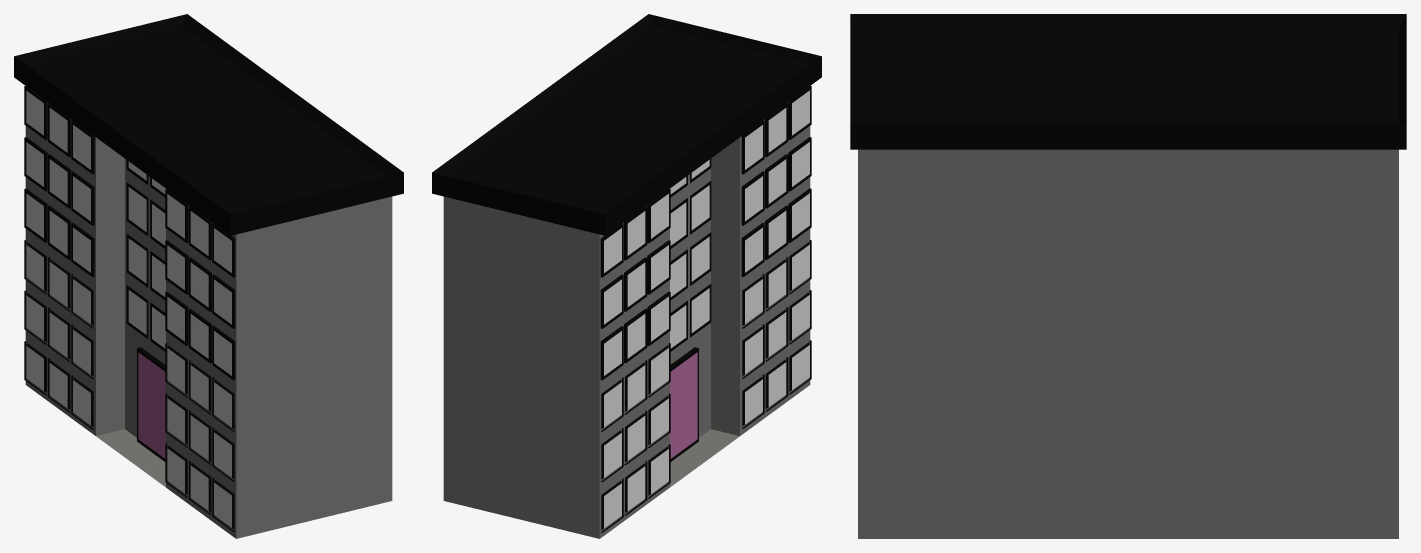
Rendered from EdificioApartamento.fbx.
3 views of the same model, side by side, from view 1: azimuth 30°, elevation 25°; view 2: azimuth 150°, elevation 25°; view 3: azimuth 270°, elevation 25° (orthographic). The views are drawn at different scales.
Parts seen in each view (by area): view 1: Cube, Cube.003, Cube.002, Cube.004, Cube.005, Cube.001, Cube.006; view 2: Cube, Cube.002, Cube.003, Cube.005, Cube.004, Cube.001, Cube.006; view 3: Cube.
Boxes of the visible parts, x1,y1,x2,y2 form: Cube: [14, 14, 403, 538]; Cube.003: [24, 86, 94, 307]; Cube.002: [165, 189, 235, 427]; Cube.004: [24, 240, 93, 429]; Cube.005: [165, 343, 234, 531]; Cube.001: [126, 160, 165, 351]; Cube.006: [137, 347, 165, 461]; Cube: [432, 14, 821, 538]; Cube.002: [741, 86, 811, 324]; Cube.003: [600, 189, 670, 396]; Cube.005: [742, 240, 811, 428]; Cube.004: [601, 343, 670, 532]; Cube.001: [670, 158, 711, 351]; Cube.006: [670, 347, 698, 461]; Cube: [850, 14, 1406, 538].
Bounding box in the file's own units: 222 × 402 × 481.
